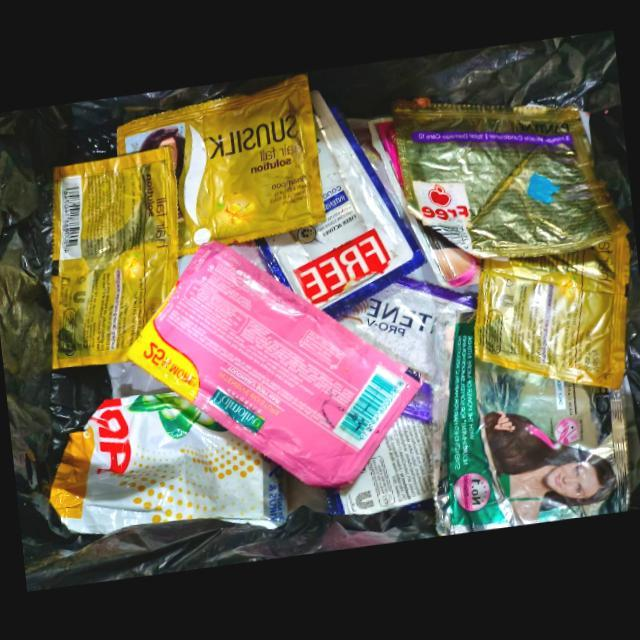wrapper: (125, 243, 422, 491), (435, 313, 640, 539), (378, 102, 627, 263), (116, 75, 326, 259), (256, 87, 425, 315), (48, 393, 288, 536), (50, 147, 179, 370), (474, 240, 630, 395), (332, 280, 475, 425), (325, 419, 441, 524)
